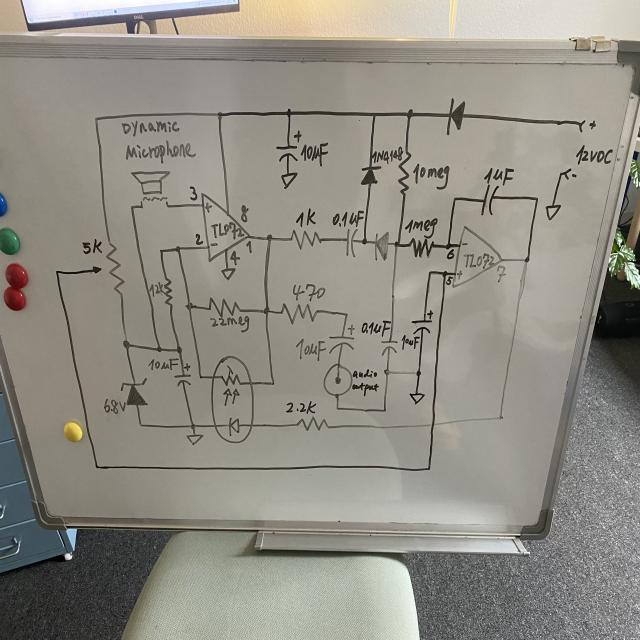capacitor: (275, 129, 302, 165), (326, 324, 356, 356), (410, 309, 434, 337), (478, 184, 499, 216), (174, 362, 191, 387), (379, 339, 399, 358), (344, 228, 356, 259)
crossover: (429, 420, 437, 430)
diode: (444, 96, 468, 140), (120, 374, 150, 408), (359, 164, 381, 186), (374, 230, 388, 262)
ground: (280, 172, 299, 190), (544, 202, 562, 221), (408, 390, 426, 406), (185, 432, 204, 446), (221, 267, 236, 281)
junction: (122, 338, 131, 350), (185, 300, 194, 312), (405, 108, 414, 120), (265, 232, 274, 244), (284, 107, 292, 118), (263, 305, 271, 316), (269, 378, 277, 388), (523, 254, 531, 264), (414, 368, 422, 378), (361, 236, 368, 247), (175, 243, 182, 254), (175, 345, 183, 354), (394, 239, 401, 249), (216, 110, 223, 120), (425, 464, 432, 473), (54, 268, 61, 277), (533, 194, 540, 203), (371, 110, 378, 119), (334, 404, 341, 413), (383, 368, 390, 376), (158, 247, 165, 255), (93, 115, 100, 123), (156, 345, 163, 353), (190, 422, 197, 430), (343, 310, 349, 319), (129, 203, 135, 212), (442, 269, 448, 278), (382, 406, 388, 414), (498, 413, 504, 421), (445, 242, 451, 250), (452, 196, 458, 202), (138, 421, 143, 428), (198, 373, 203, 380), (94, 464, 99, 470), (428, 270, 432, 276), (559, 171, 563, 177)
resistor: (89, 240, 126, 297), (279, 300, 320, 326), (288, 226, 324, 250), (207, 296, 241, 318), (397, 150, 412, 196), (295, 415, 331, 434), (408, 237, 434, 259), (162, 276, 174, 308)
terminal: (322, 362, 352, 398), (578, 119, 586, 133), (564, 168, 571, 180)
text: (124, 139, 197, 164), (121, 118, 183, 137), (412, 162, 450, 191), (575, 145, 615, 165), (300, 140, 328, 168), (404, 217, 438, 239), (332, 208, 364, 230), (483, 165, 514, 187), (295, 338, 327, 359), (371, 145, 404, 165), (290, 282, 326, 300), (210, 221, 244, 240), (462, 252, 495, 269), (208, 316, 250, 329), (285, 399, 317, 415), (360, 320, 391, 336), (146, 357, 180, 371), (296, 207, 318, 228), (352, 382, 379, 396), (103, 398, 126, 414), (81, 238, 102, 255), (352, 366, 378, 379), (400, 334, 417, 350), (150, 280, 164, 296), (496, 264, 507, 283), (240, 203, 249, 225), (229, 250, 241, 266), (188, 185, 198, 202), (194, 232, 204, 246), (446, 247, 455, 261), (204, 199, 212, 213), (588, 120, 598, 131), (445, 275, 454, 286), (246, 240, 253, 254), (456, 270, 464, 279), (209, 241, 218, 249), (461, 240, 469, 247), (572, 172, 578, 180)
